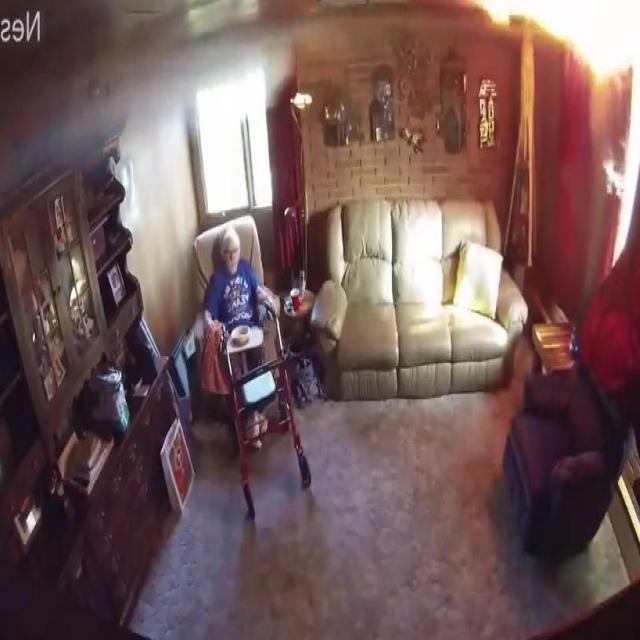fire: (0, 12, 293, 186)
smoke: (476, 0, 640, 81)
